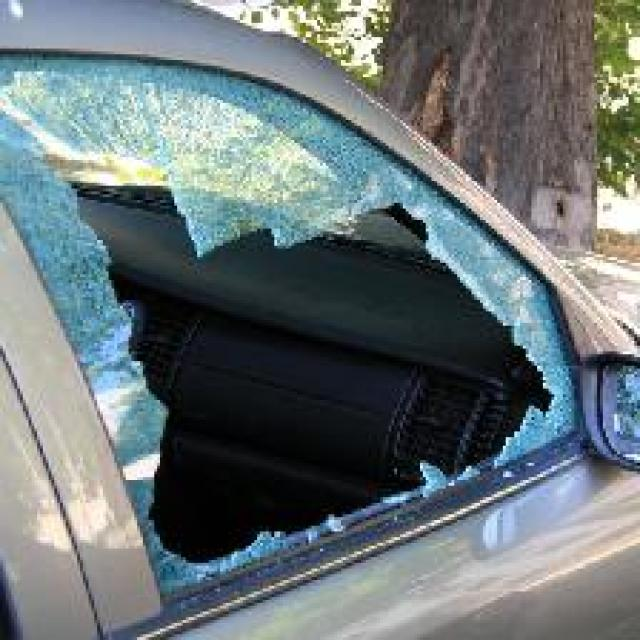glass_shatter_severe: (0, 57, 571, 560)
